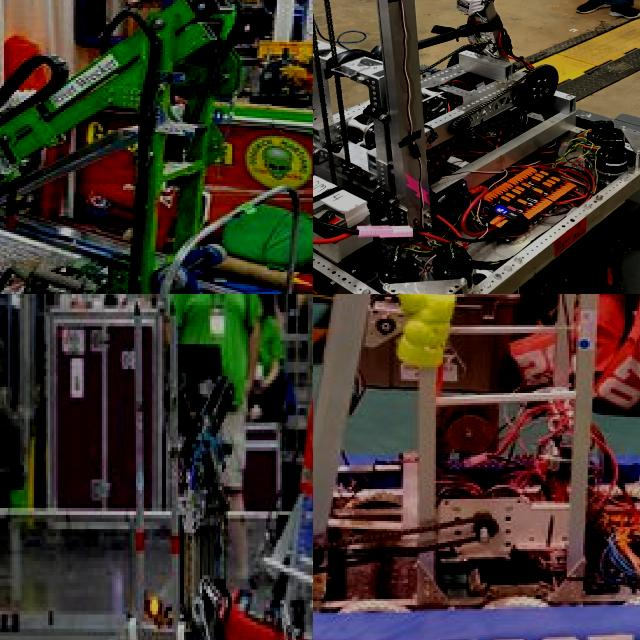FRC-Robots: (313, 294, 640, 640), (313, 0, 640, 294), (0, 0, 313, 294), (76, 367, 298, 640), (227, 391, 313, 640)
